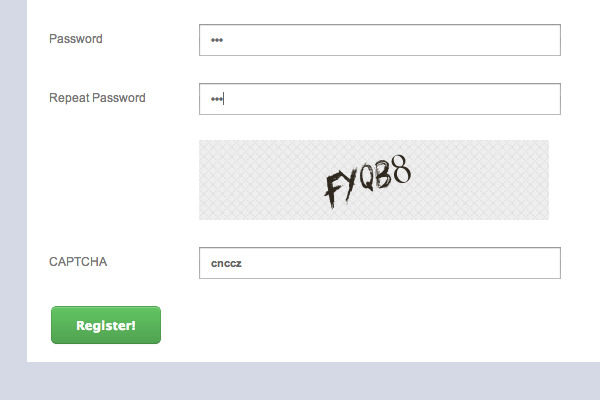_form_: (44, 80, 568, 365), (45, 3, 569, 285)
button: (49, 305, 162, 344)
field: (196, 82, 564, 117), (195, 23, 562, 57), (196, 246, 562, 280)
field_with_label: (50, 20, 563, 58), (49, 81, 567, 118), (49, 244, 564, 281)
